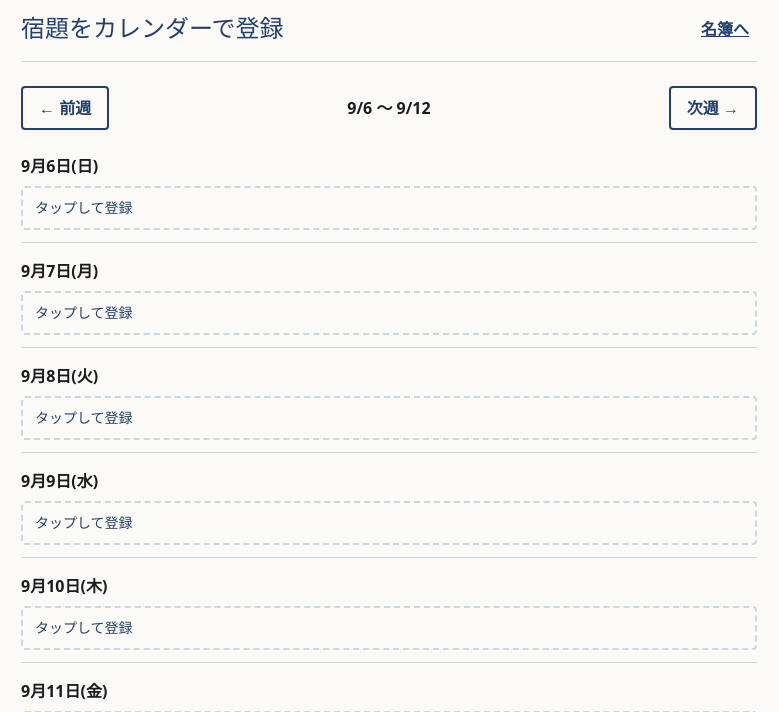
Test case: カレンダー画面 › 未登録の日をタップして宿題名を登録できる
Click the button "タップして登録" below "9月6日(日)" at (84, 208), box [21,186,757,230]
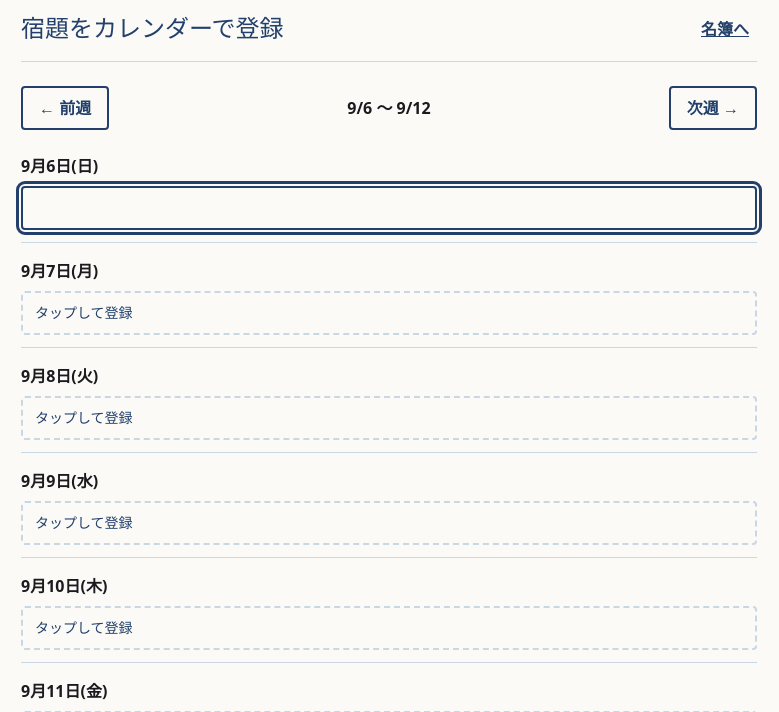
Type "計算プリントp23" into the field at (389, 208), box [21,186,757,230]
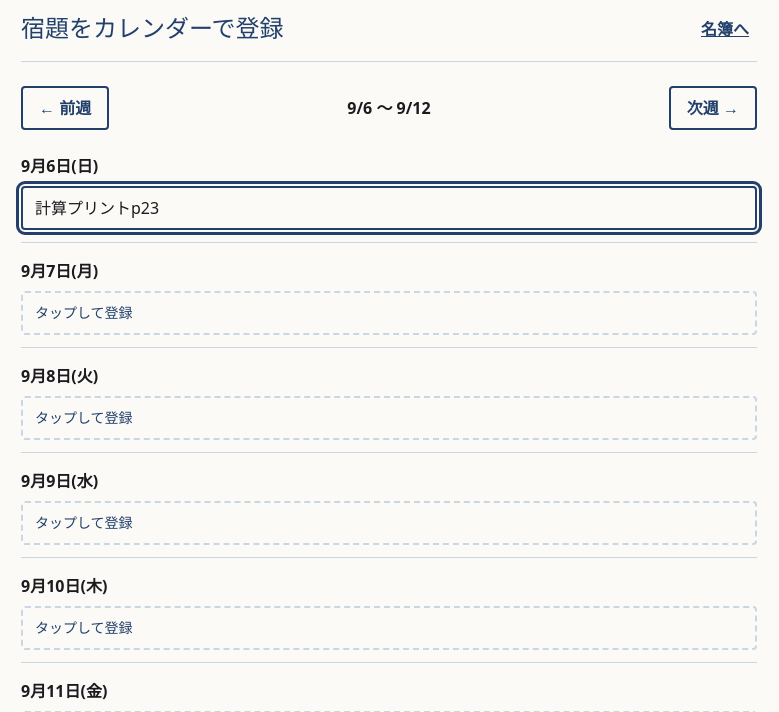
Leave the field, box [21,186,757,230]
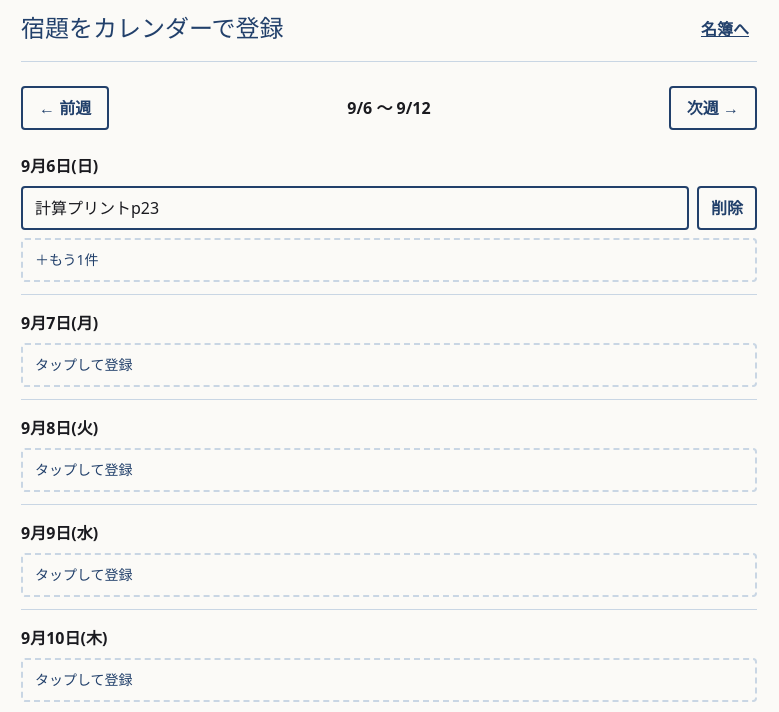
Check: the button "計算プリントp23" is shown, box [21,186,689,230]
